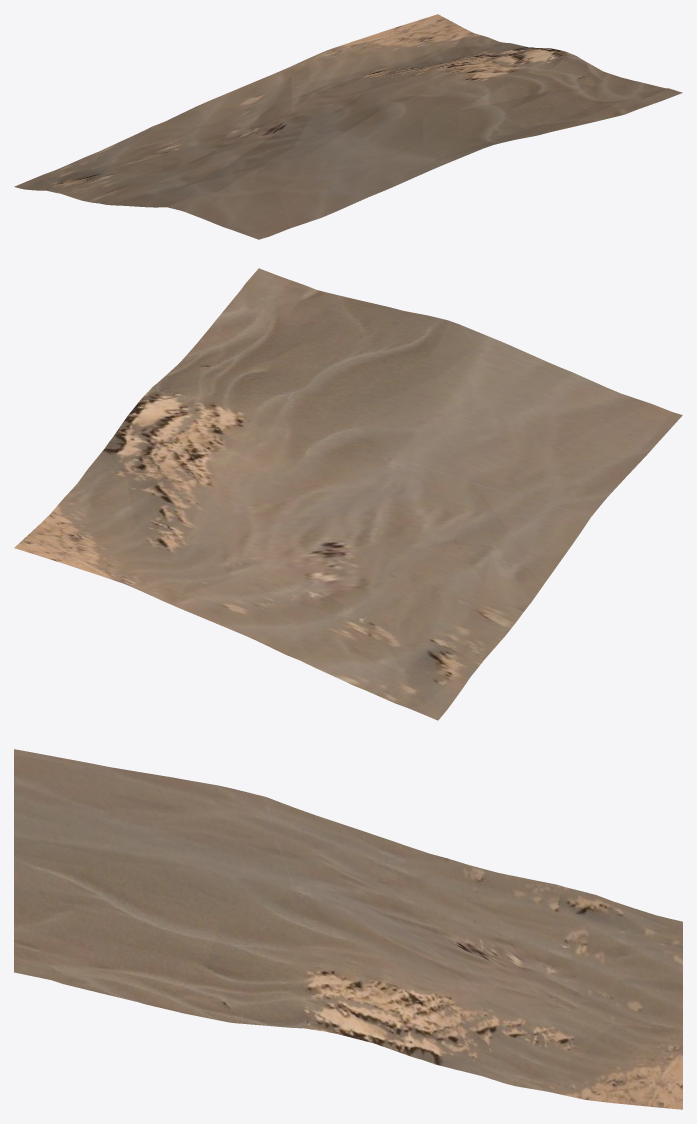
3 views of the same model, one above another, from view 1: azimuth 30°, elevation 25°; view 2: azimuth 150°, elevation 25°; view 3: azimuth 270°, elevation 25° (orthographic). The views are drawn at different scales.
Size of the model in its own units: 1.04 by 0.3995 by 1.04.
Materials: 2 (2 with a texture image).
